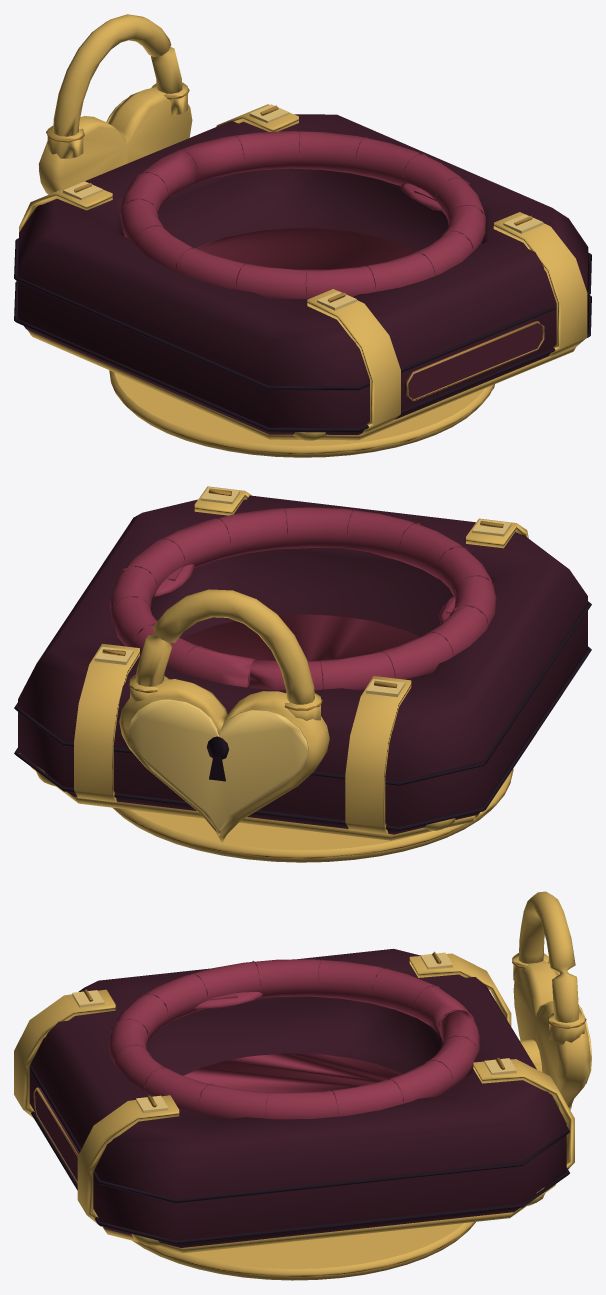
File: kart.body.velvet-lock.glb
3 renders of one model, top to bottom at view 1: azimuth 30°, elevation 25°; view 2: azimuth 150°, elevation 25°; view 3: azimuth 270°, elevation 25°, orthographic. The views are drawn at different scales.
Visible parts, largest first — view 1: emi_vehicle_velvet-lock; view 2: emi_vehicle_velvet-lock; view 3: emi_vehicle_velvet-lock.
Boxes of the visible parts, x1,y1,x2,y2 form: emi_vehicle_velvet-lock: (14,14,591,457); emi_vehicle_velvet-lock: (14,486,591,862); emi_vehicle_velvet-lock: (14,891,591,1280).
Bounding box in the file's own units: 0.4346 × 0.2526 × 0.48.
